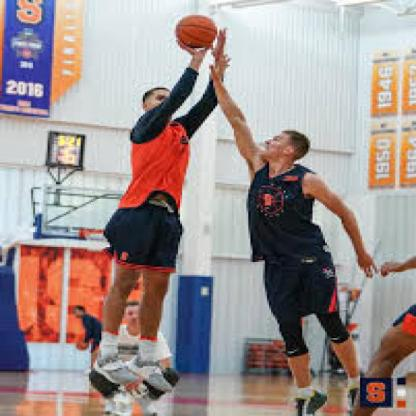basketball: (174, 14, 217, 50)
